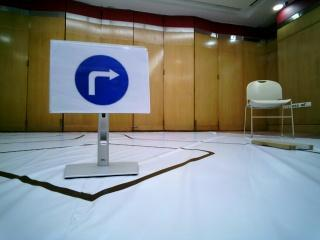right: (49, 40, 150, 115)
